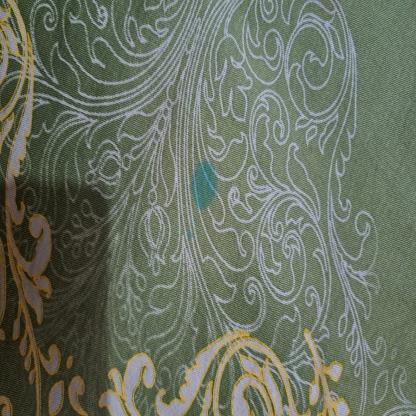spot: (187, 156, 224, 216), (184, 219, 202, 247)
